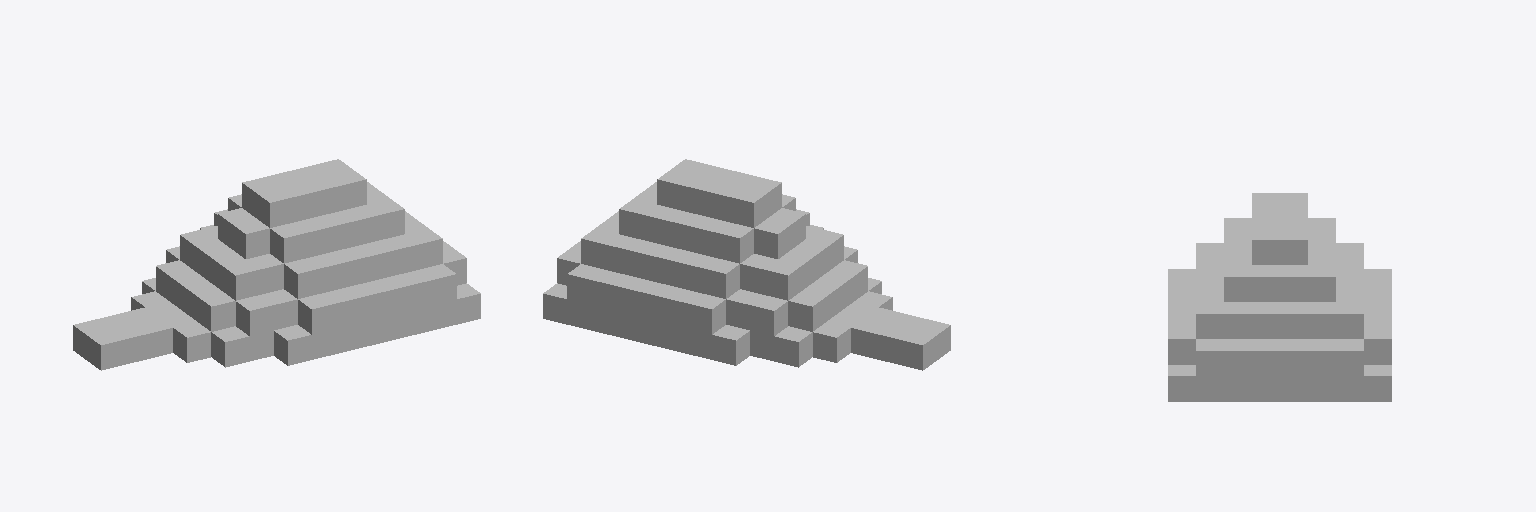
Rendered from hardcook_cutting_board_with_chopped.obj.
3 renders of one model, left to right at view 1: azimuth 30°, elevation 25°; view 2: azimuth 150°, elevation 25°; view 3: azimuth 270°, elevation 25°, orthographic.
Parts seen in each view (by area): view 1: node_0_0_0.015, node_0_0_0.012; view 2: node_0_0_0.015, node_0_0_0.012; view 3: node_0_0_0.015, node_0_0_0.012.
Boxes of the visible parts, <box> form: node_0_0_0.015: <box>156,159,466,335</box>; node_0_0_0.012: <box>73,278,480,370</box>; node_0_0_0.015: <box>557,159,867,335</box>; node_0_0_0.012: <box>543,278,950,370</box>; node_0_0_0.015: <box>1168,193,1391,375</box>; node_0_0_0.012: <box>1168,365,1391,401</box>.
Size of the model in its own units: 0.875 by 0.3125 by 0.5.